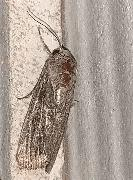army worm adult: (13, 7, 81, 180)
